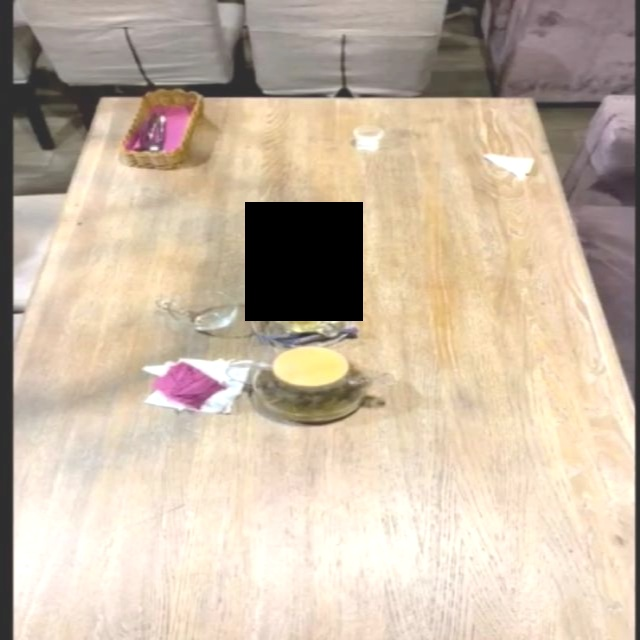tea: (249, 346, 371, 424)
